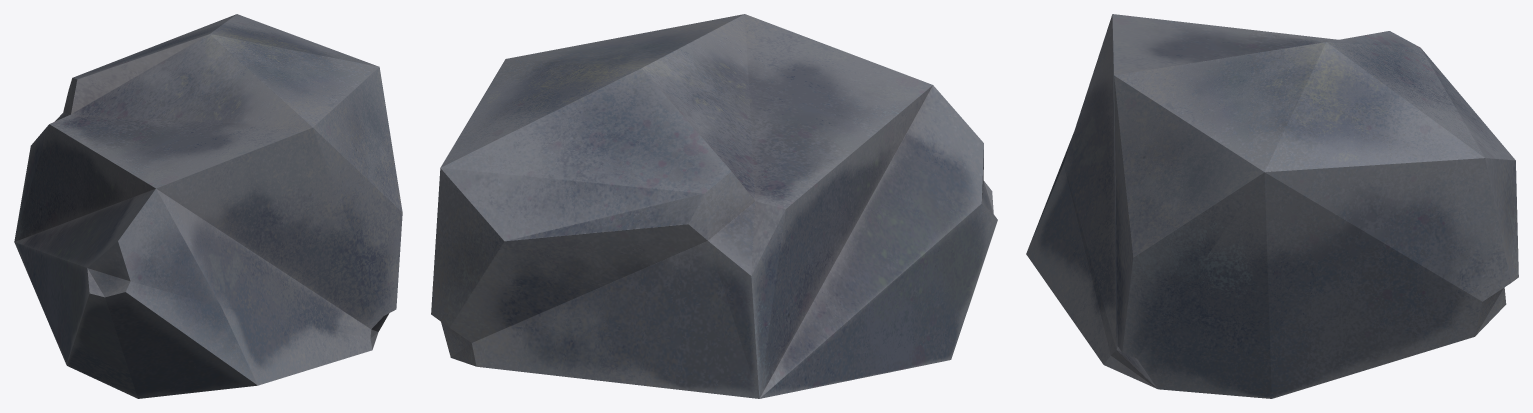
The model's file is stylized_rock_04.fbx.
The picture shows the model from 3 angles, left to right: view 1: azimuth 30°, elevation 25°; view 2: azimuth 150°, elevation 25°; view 3: azimuth 270°, elevation 25°; orthographic projection. The views are drawn at different scales.
Visible parts, largest first — view 1: stylized_rock_04; view 2: stylized_rock_04; view 3: stylized_rock_04.
Boxes of the visible parts, <box> form: stylized_rock_04: <box>14,14,402,398</box>; stylized_rock_04: <box>431,14,997,398</box>; stylized_rock_04: <box>1026,14,1518,398</box>.
Size of the model in its own units: 36.48 by 27.36 by 39.6.
